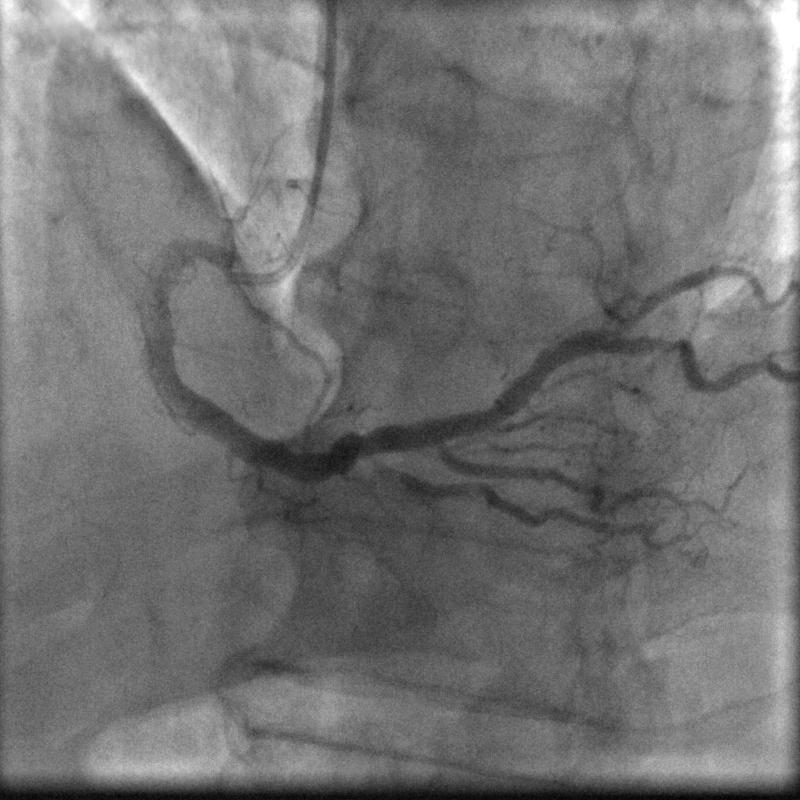Stenosis: (630, 328, 693, 358)
